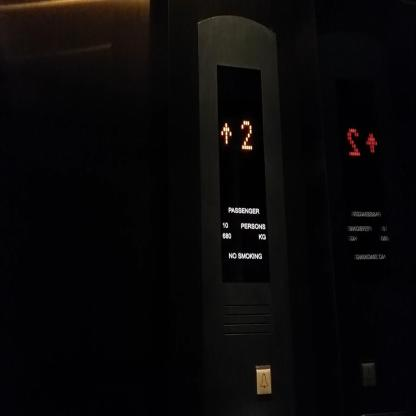alarm: (255, 362, 272, 396), (360, 361, 376, 389)
led: (215, 63, 272, 283), (337, 103, 393, 275)
